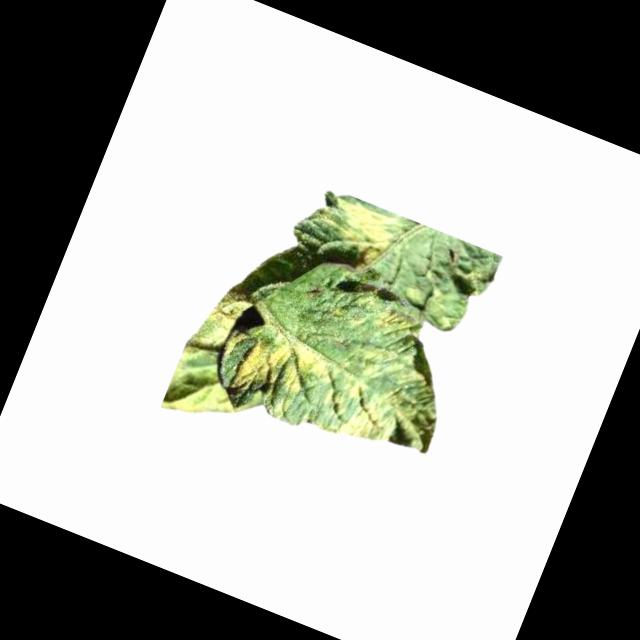Leaf_Mold: (224, 321, 334, 430), (292, 185, 409, 283), (329, 376, 409, 454), (204, 279, 256, 337), (371, 300, 421, 344)
